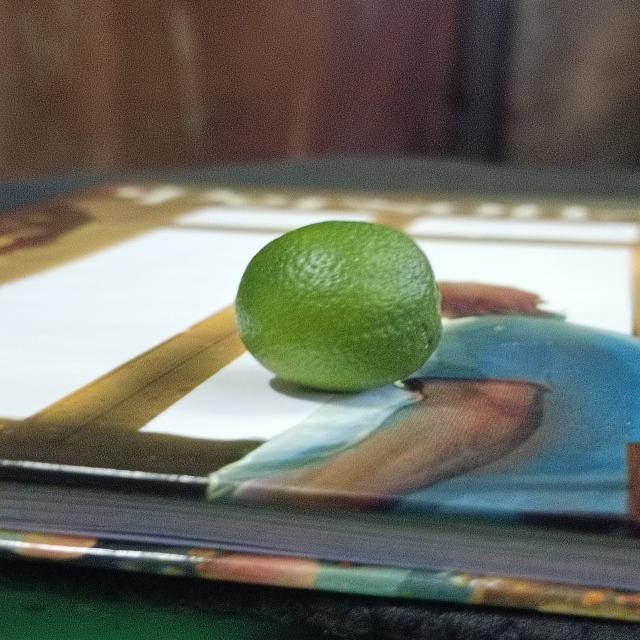heathy: (227, 224, 447, 402)
